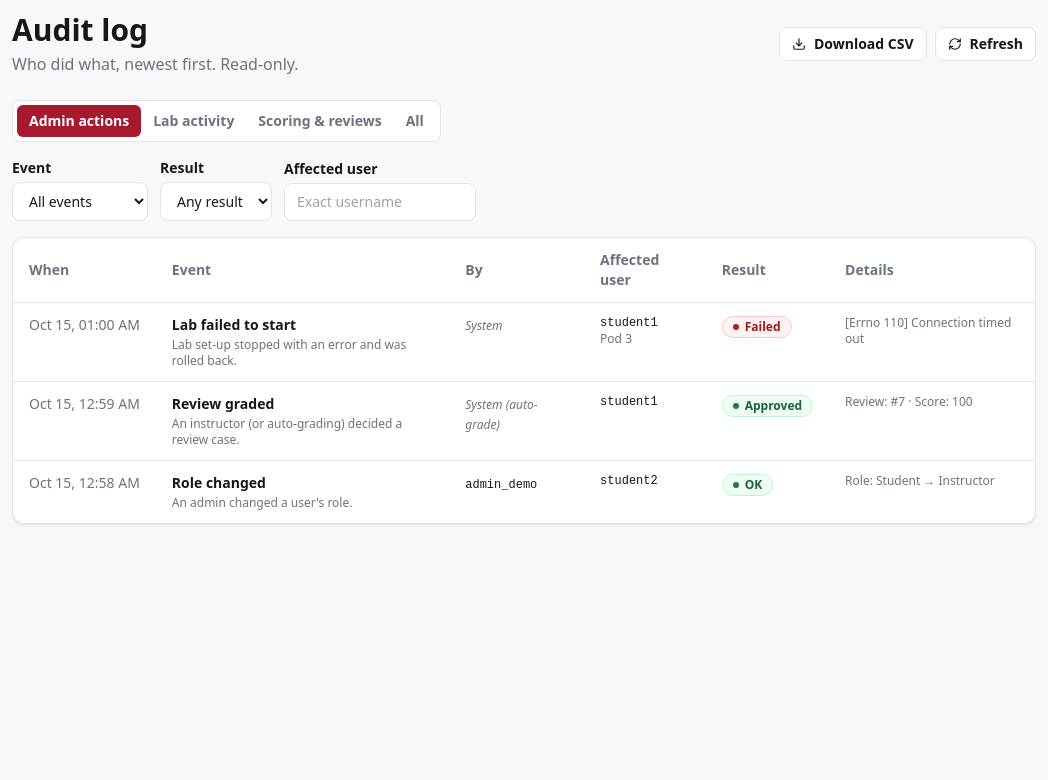
Scenario: Download CSV reuses the current filters and saves a file
Expected: the table is shown, [13,238,1035,523]
Step 1. Click the button "Download CSV" → [853, 44], box [779,27,927,61]
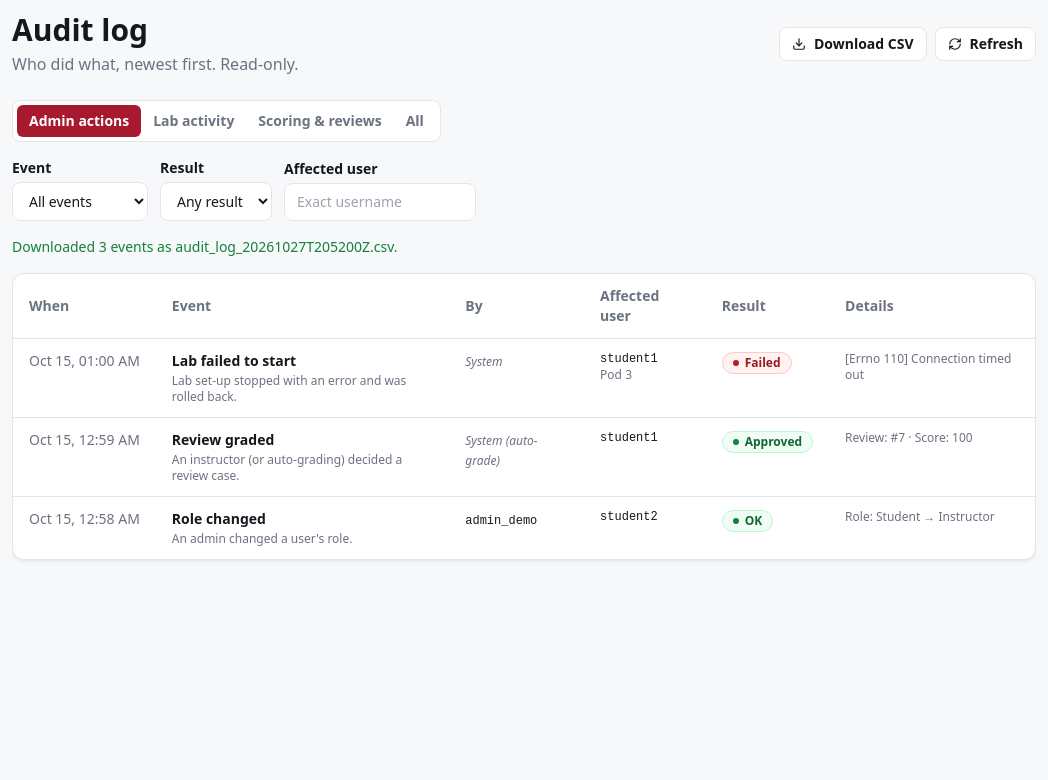
Result: the message shows "Downloaded 3 events as audit_log_" at [12,237,398,256]
